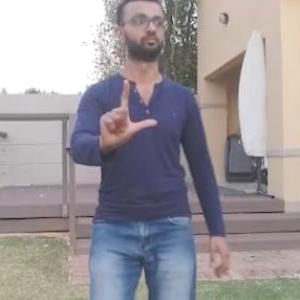land_hand: (94, 75, 160, 153)
